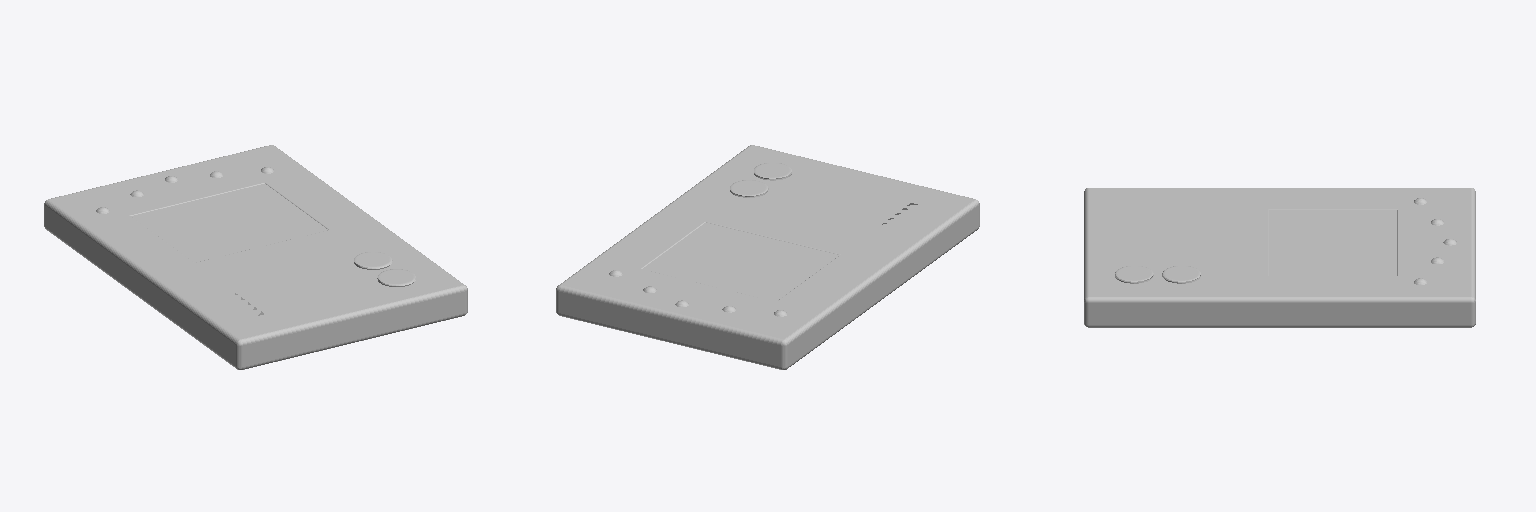
The model's file is beaconModel04.obj.
3 views of the same model, side by side, from view 1: azimuth 30°, elevation 25°; view 2: azimuth 150°, elevation 25°; view 3: azimuth 270°, elevation 25° (orthographic).
Visible parts, largest first — view 1: Button_Bottom_Cylinder.001; view 2: Button_Bottom_Cylinder.001; view 3: Button_Bottom_Cylinder.001.
Boxes of the visible parts, box(x1,y1,x2,y2) form: Button_Bottom_Cylinder.001: box(44, 145, 467, 369); Button_Bottom_Cylinder.001: box(556, 145, 979, 369); Button_Bottom_Cylinder.001: box(1084, 188, 1475, 327).
Size of the model in its own units: 1.36 by 0.191 by 2.